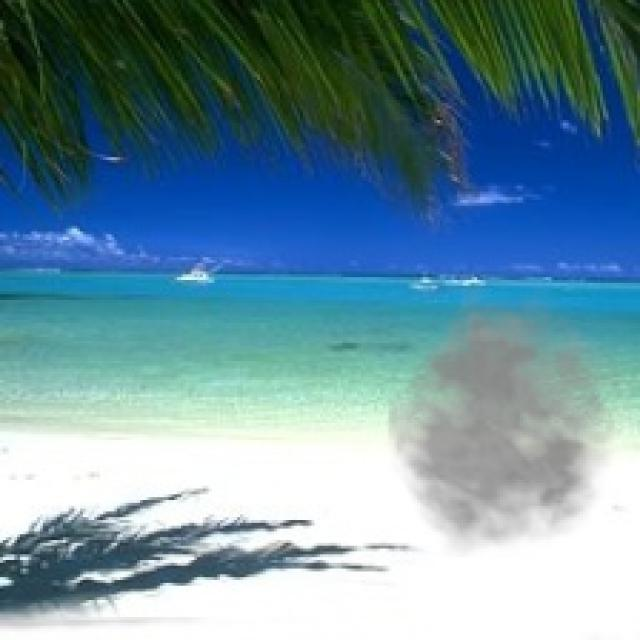Smoke: (386, 280, 638, 557)
